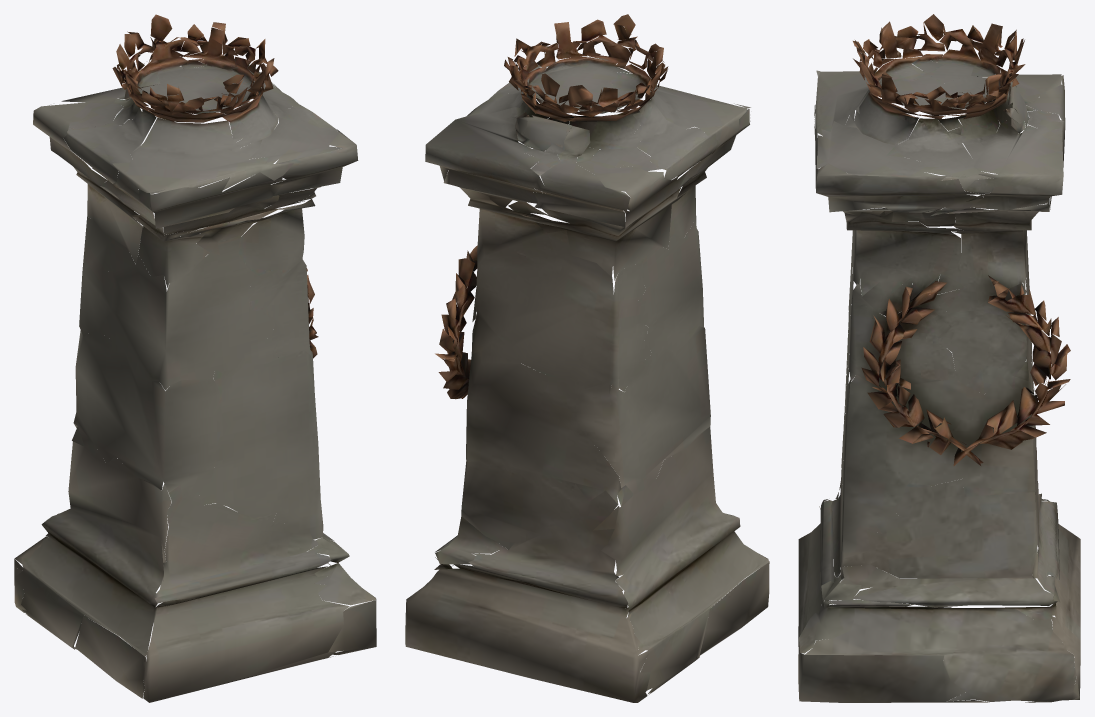
The model's file is hf_pedestal.glb.
The picture shows the model from 3 angles, left to right: view 1: azimuth 30°, elevation 25°; view 2: azimuth 150°, elevation 25°; view 3: azimuth 270°, elevation 25°; orthographic projection. The views are drawn at different scales.
Parts seen in each view (by area): view 1: tripo_node_9ecc9e61-2fdd-40a4-be56-34e9107f5ebe; view 2: tripo_node_9ecc9e61-2fdd-40a4-be56-34e9107f5ebe; view 3: tripo_node_9ecc9e61-2fdd-40a4-be56-34e9107f5ebe.
Part boxes in pixels (<box>): tripo_node_9ecc9e61-2fdd-40a4-be56-34e9107f5ebe: <box>14,14,376,702</box>; tripo_node_9ecc9e61-2fdd-40a4-be56-34e9107f5ebe: <box>405,14,769,702</box>; tripo_node_9ecc9e61-2fdd-40a4-be56-34e9107f5ebe: <box>798,14,1080,702</box>.
Size of the model in its own units: 0.4204 by 1 by 0.4222.
1 material, 1 textured.
